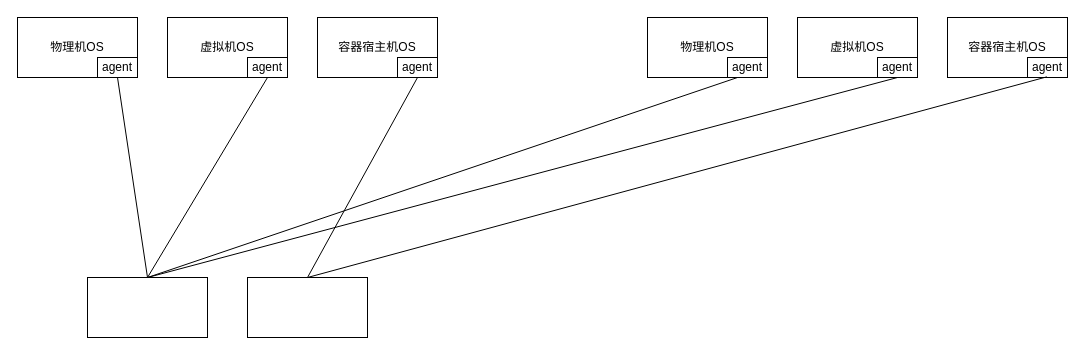
Some shapes in this 1085 by 355 pixel diagram are drawn without their labels. The shapes that lost their labels are listed below. From the top down, each one's box as (x1, y1, x2, y2) in pixels, then its label:
(86, 276, 208, 338): 主机安全管理平台
(246, 276, 368, 338): 容器安全管理平台
